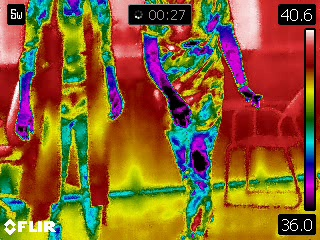human: (143, 1, 263, 240), (16, 1, 125, 239)
